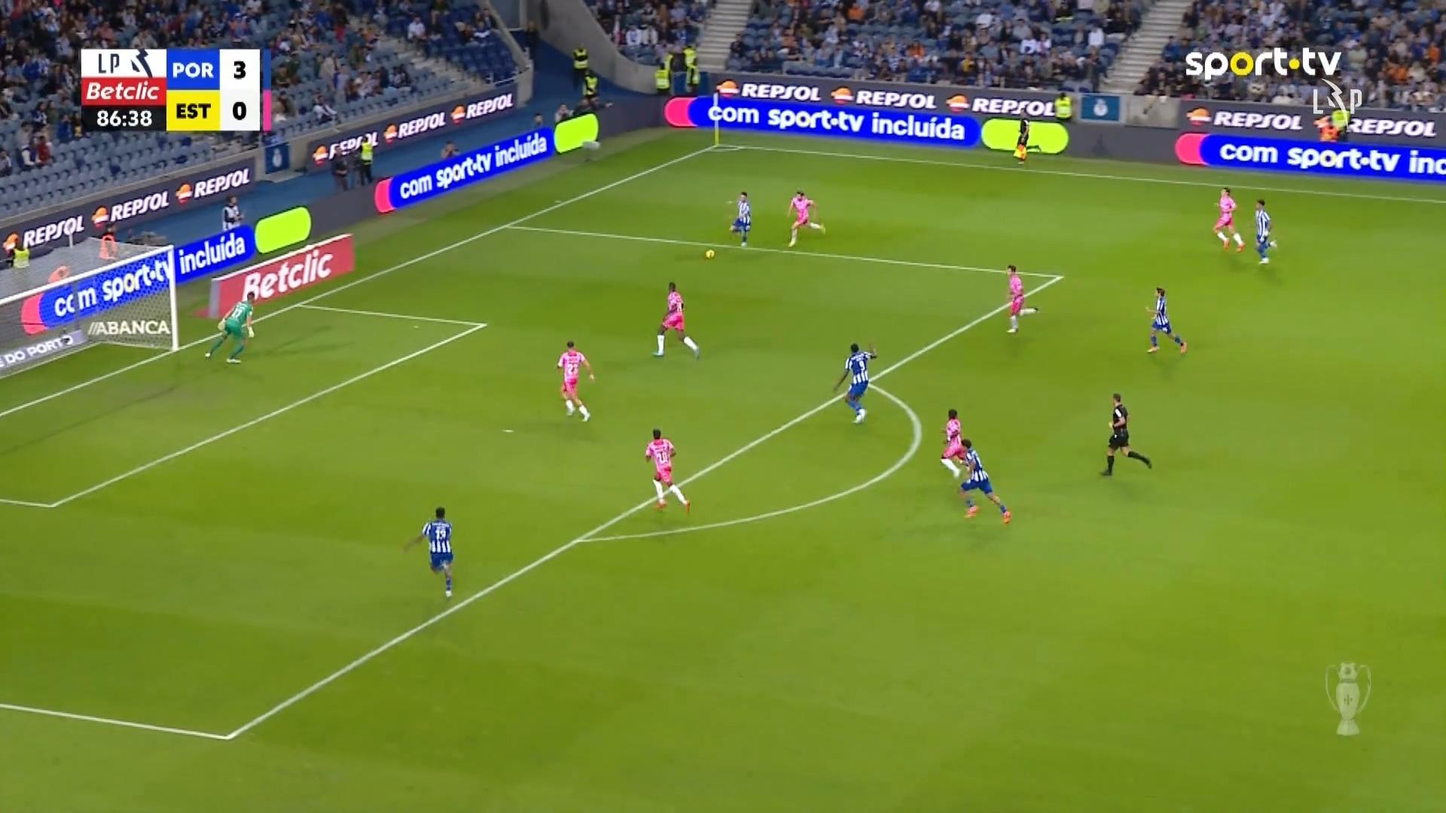ball: (705, 248, 715, 260)
goalkeeper: (202, 290, 256, 363)
player: (399, 505, 455, 598), (957, 439, 1014, 525), (643, 427, 691, 513), (651, 280, 702, 360), (832, 341, 878, 425), (555, 340, 596, 422), (1144, 286, 1189, 356), (999, 266, 1040, 335), (785, 191, 826, 249), (1212, 186, 1247, 253), (939, 408, 967, 478), (1251, 198, 1279, 265), (726, 190, 750, 247)
referee: (1097, 391, 1153, 478), (1012, 108, 1031, 166)
